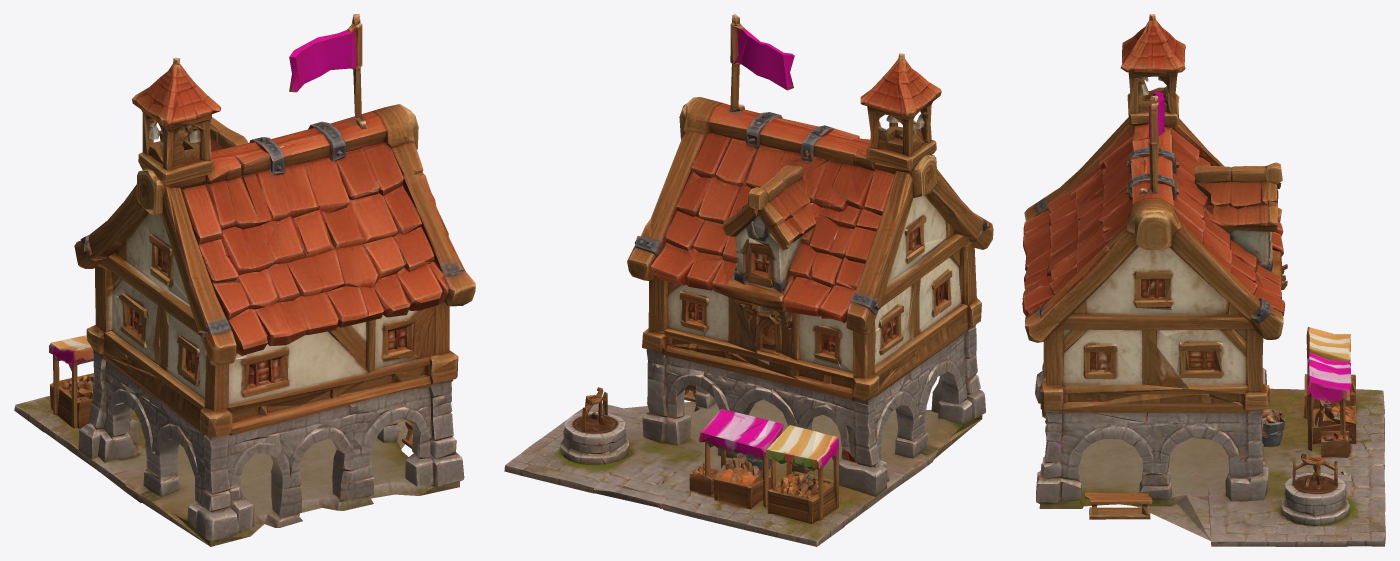
The model's file is village2.glb.
3 renders of one model, left to right at view 1: azimuth 30°, elevation 25°; view 2: azimuth 150°, elevation 25°; view 3: azimuth 270°, elevation 25°, orthographic. The views are drawn at different scales.
Parts seen in each view (by area): view 1: Mesh_0; view 2: Mesh_0; view 3: Mesh_0.
Part boxes in pixels (left/top/right/bottom): Mesh_0: left=14, top=14, right=475, bottom=546; Mesh_0: left=504, top=14, right=993, bottom=546; Mesh_0: left=1022, top=14, right=1385, bottom=546.
Size of the model in its own units: 1.56 by 1.89 by 1.57.
1 material, 1 textured.
